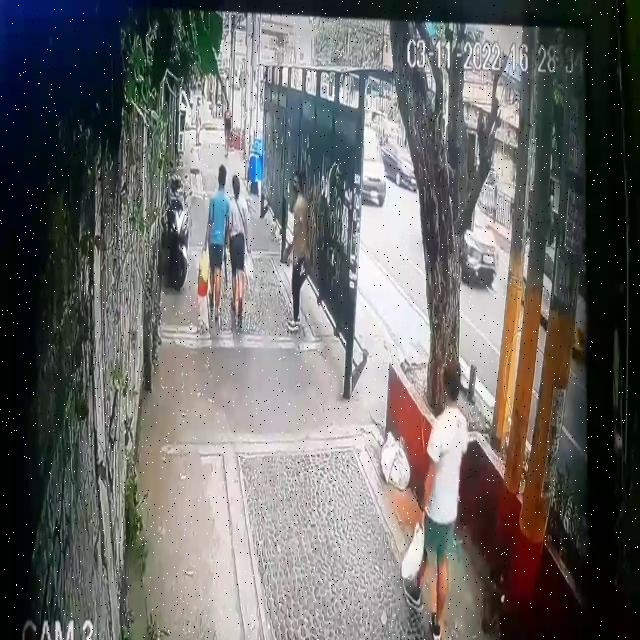human: (402, 361, 468, 640), (198, 165, 231, 320), (286, 168, 316, 327), (231, 175, 253, 325)
trash: (401, 498, 429, 600), (374, 424, 412, 491)
